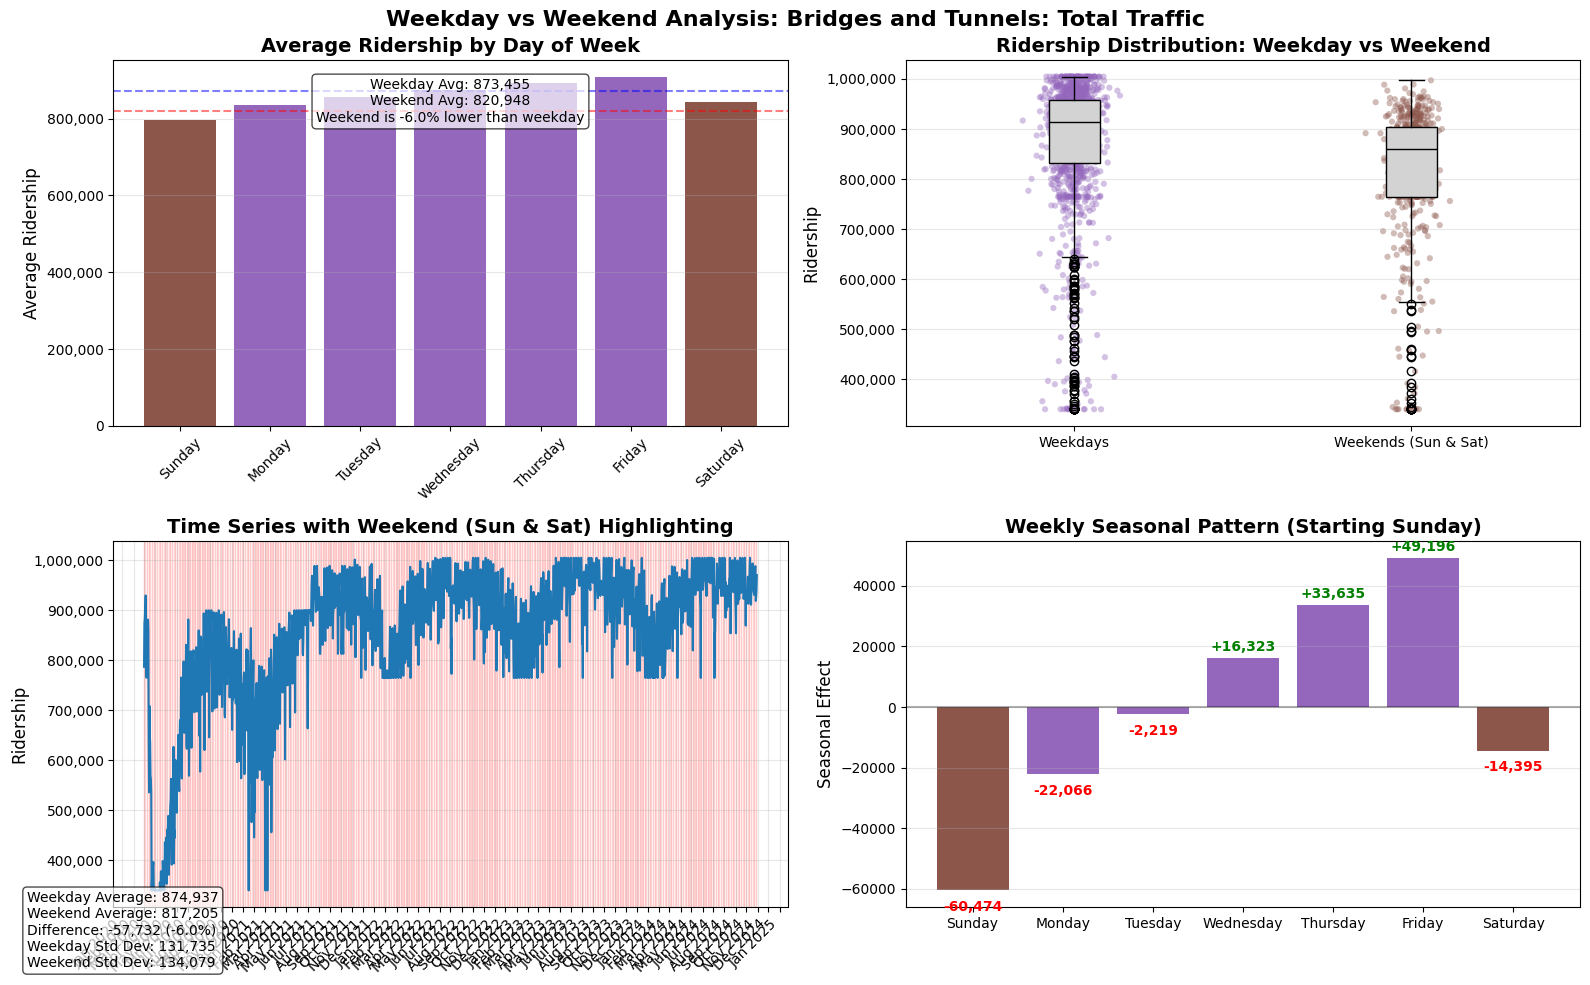

Layout of this report page (visuals, bound fields, positions):
{"tool":"powerbi","page":{"name":"Page 2","canvas":[1280,720],"ordinal":1},"visuals":[{"type":"shape","box":[0,372.2,1279.7,348.1],"z":0},{"type":"shape","box":[0,0,1279.7,398.6],"z":1000},{"type":"textbox","box":[58.6,11.5,731.7,46],"z":3000},{"type":"shape","box":[678.9,359.5,570.9,338.9],"z":4000},{"type":"shape","box":[693.8,66.6,556,281.4],"z":5000},{"type":"funnel","title":"Total MTA ridership each year","fields":{"Y":["Sum(MTA-Ridership.Total MTA Traffic)"],"Category":["MTA-Ridership.Date.Variation.Date Hierarchy.Year"]},"box":[703,66.6,546.8,281.4],"z":6000},{"type":"shape","box":[58.6,360.7,608.8,338.9],"z":7000},{"type":"shape","box":[58.6,66.6,620.3,281.4],"z":8000},{"type":"columnChart","title":"Total MTA Traffic by Day Of Week","fields":{"Category":["MTA-Ridership.DayOfWeek"],"Series":["MTA-Ridership.DayOfWeek"],"Y":["Sum(MTA-Ridership.Total MTA Traffic)"]},"box":[66.6,360.7,600.8,337.7],"z":9000},{"type":"columnChart","title":"Weekly Ridership change","fields":{"Category":["MTA-Ridership.DayOfWeek"],"Y":["MTA-Ridership.Seasonal Effect"]},"box":[678.9,360.7,566.3,338.9],"z":10000},{"type":"ribbonChart","title":"Ridership % compared to prepandemic","fields":{"Category":["MTA-Ridership.Date.Variation.Date Hierarchy.Year"],"Y":["Avg(MTA-Ridership.Bridges and Tunnels: % of Comparable Pre-Pandemic Day)","Avg(MTA-Ridership.Access-A-Ride: % of Comparable Pre-Pandemic Day)","Avg(MTA-Ridership.Buses: % of Comparable Pre-Pandemic Day)","Avg(MTA-Ridership.Subways: % of Comparable Pre-Pandemic Day)","Avg(MTA-Ridership.LIRR: % of Comparable Pre-Pandemic Day)","Avg(MTA-Ridership.Staten Island Railway: % of Comparable Pre-Pandemic Day)","Avg(MTA-Ridership.Metro-North: % of Comparable Pre-Pandemic Day)"]},"box":[58.6,71.2,612.3,273.4],"z":11000}]}

Visuals, with their boxes on the page's 1280x720 design canvas (x1, y1, x2, y2). These are canvas units, not pixel positions in the 1590x985 screenshot, which may show the page scaled, cropped or inside an application window:
shape: (0,372,1280,720)
shape: (0,0,1280,399)
textbox: (59,12,790,58)
shape: (679,360,1250,698)
shape: (694,67,1250,348)
"Total MTA ridership each year" funnel: (703,67,1250,348)
shape: (59,361,667,700)
shape: (59,67,679,348)
"Total MTA Traffic by Day Of Week" columnChart: (67,361,667,698)
"Weekly Ridership change" columnChart: (679,361,1245,700)
"Ridership % compared to prepandemic" ribbonChart: (59,71,671,345)
